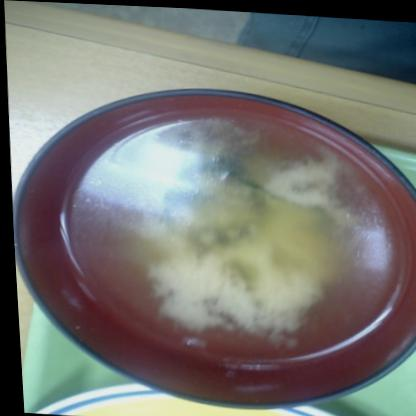miso soup: (45, 92, 415, 378)
